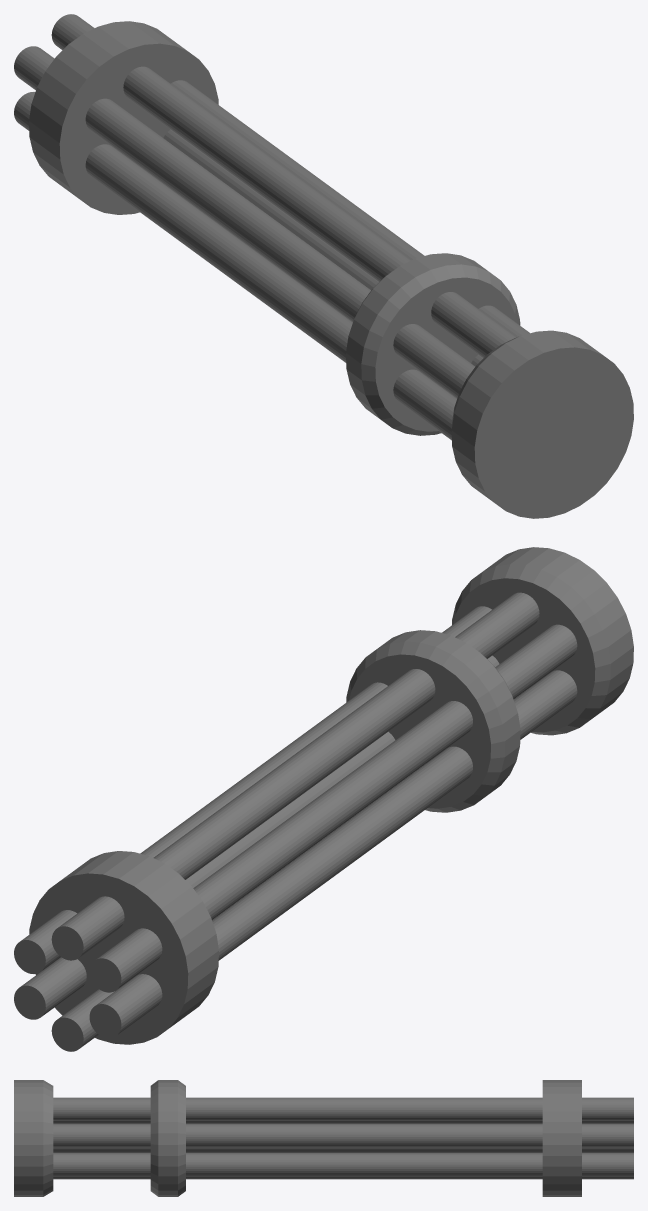
The model's file is turret-barrel-01.glb.
3 views of the same model, one above another, from view 1: azimuth 30°, elevation 25°; view 2: azimuth 150°, elevation 25°; view 3: azimuth 270°, elevation 25° (orthographic). The views are drawn at different scales.
Visible parts, largest first — view 1: Barrel; view 2: Barrel; view 3: Barrel.
Part boxes in pixels (left/top/right/bottom): Barrel: left=14, top=14, right=633, bottom=518; Barrel: left=14, top=547, right=633, bottom=1051; Barrel: left=14, top=1080, right=633, bottom=1196.
Bounding box in the file's own units: 0.1996 × 0.1996 × 1.06.
Materials: 1 (1 with a texture image).
